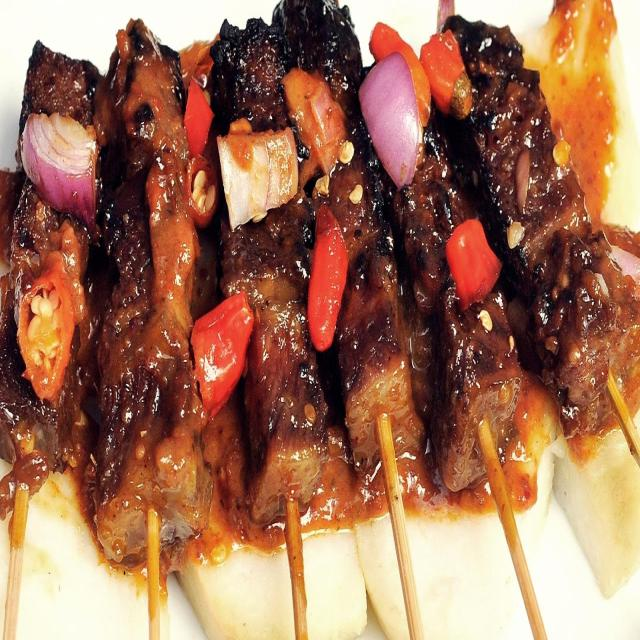Sate: (24, 28, 623, 620)
